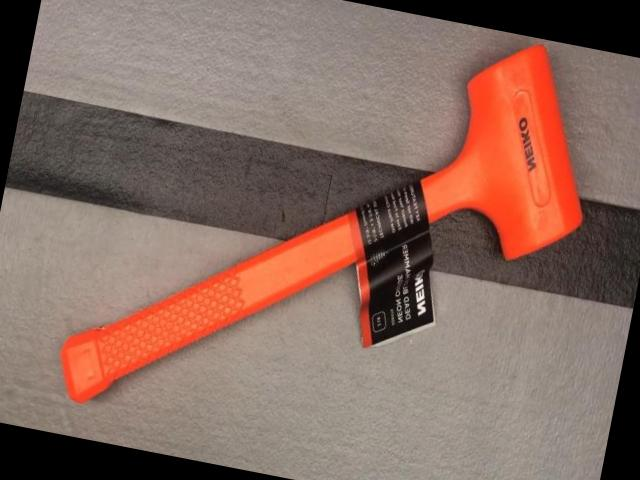hammer: (49, 0, 616, 480)
